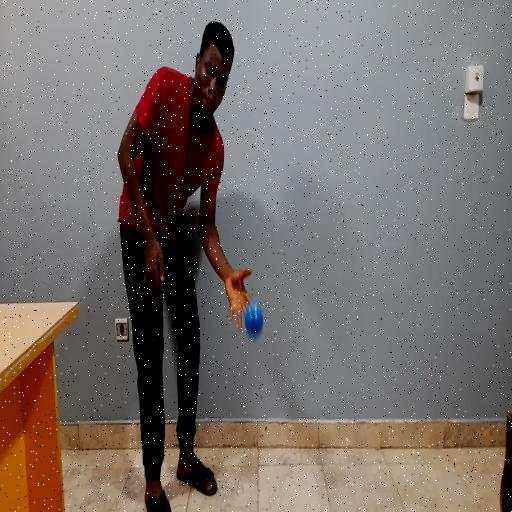plastic-ball: (244, 303, 262, 336)
